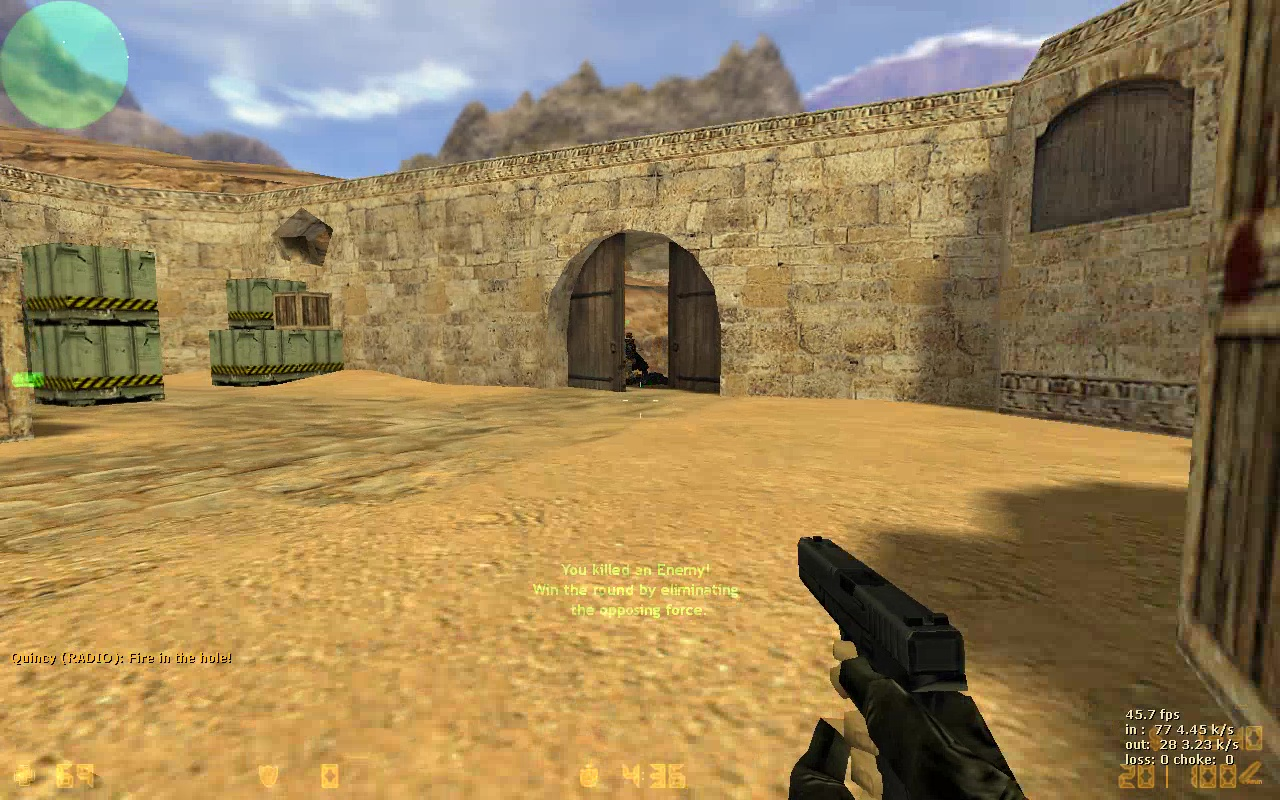ct: (627, 342, 649, 379)
